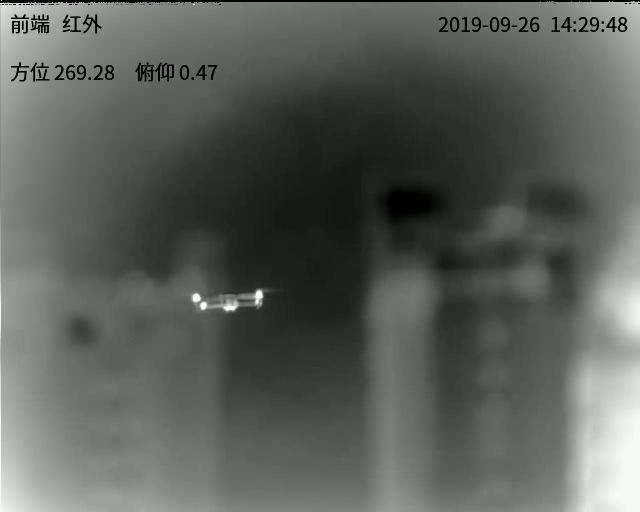DRONE: (188, 288, 265, 317)
